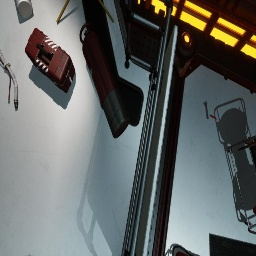0: (15, 0, 33, 18)
FireExtinguisher ]: (172, 245, 194, 256)
FirstAidBox ,: (25, 28, 75, 93)
NitrogenTank ,: (79, 22, 130, 138)
